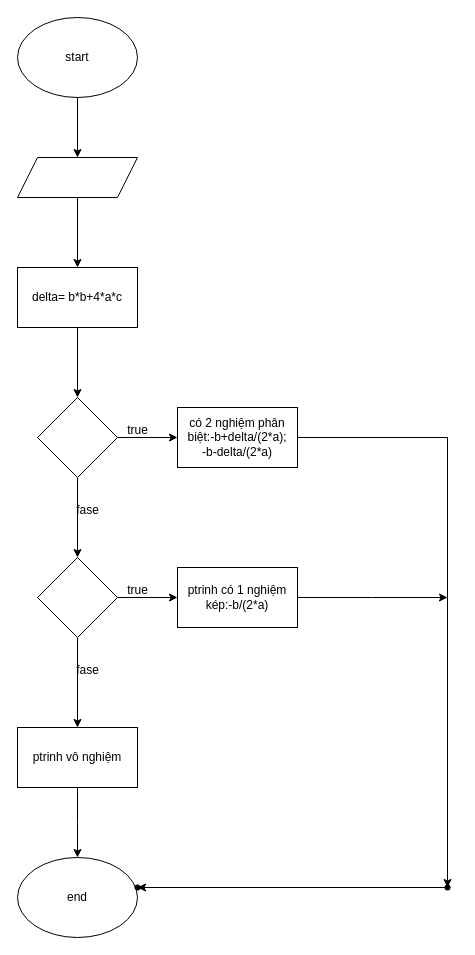
Some shapes in this 475 by 955 pixel diagram are drawn without their labels. The centre of each missing label's shape, as x and y in pixels:
delta=0: pixel 77 597
delta>0: pixel 77 437
nhập a,b,c: pixel 77 177
